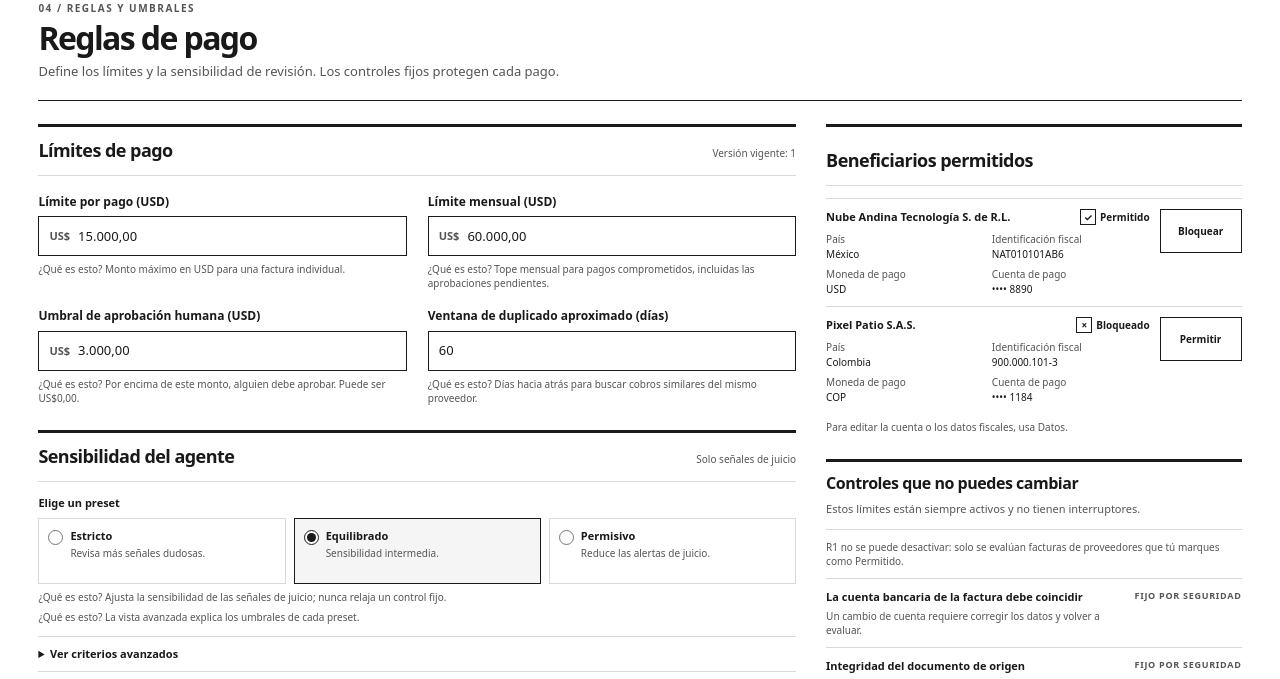
Scenario: Reglas › blocks saving when the approval threshold is equal to the payment limit
The width and height of the screenshot is (1280, 679).
Expected: the field labelled "Límite por pago (USD)" is shown, x1=78 y1=217 x2=406 y2=255
Replace the text in the field labelled "Umbral de aprobación humana (USD)" with "15.000,00" at (242, 351), box x1=78 y1=332 x2=406 y2=370
(page scrolled)
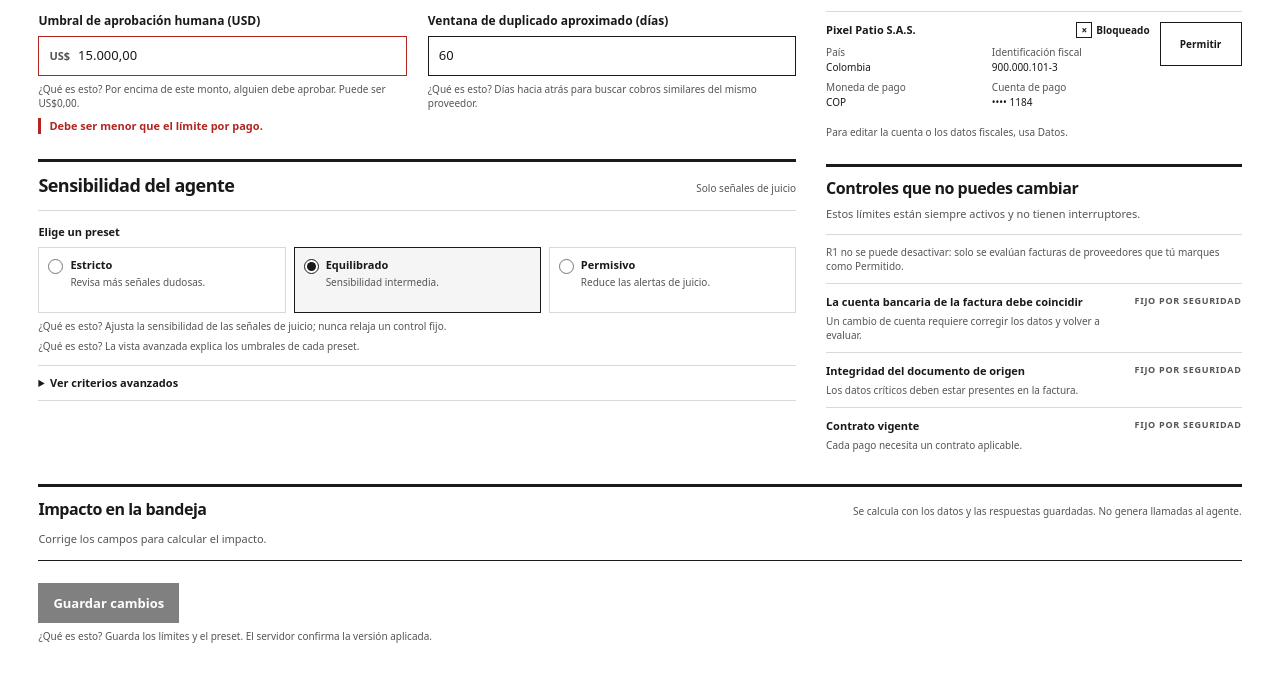
Expected: the button "Guardar cambios" is disabled, x1=38 y1=583 x2=179 y2=623
Result: the text "Debe ser menor que el límite por pago." is shown at x1=38 y1=118 x2=407 y2=134
